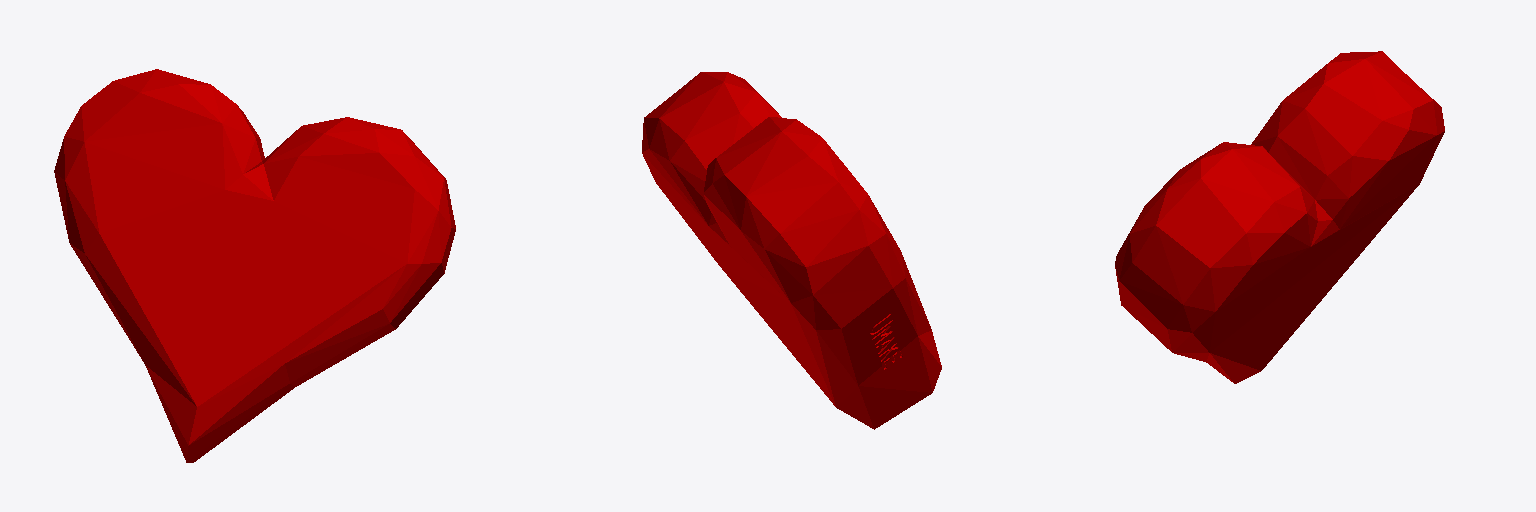
File: heart-reformed.obj
3 views of the same model, side by side, from view 1: azimuth 30°, elevation 25°; view 2: azimuth 150°, elevation 25°; view 3: azimuth 270°, elevation 25° (orthographic).
Visible parts, largest first — view 1: Umakes_Lowpoly_heart; view 2: Umakes_Lowpoly_heart; view 3: Umakes_Lowpoly_heart.
Part boxes in pixels (x1,y1,x2,y2): Umakes_Lowpoly_heart: (54,69,455,462); Umakes_Lowpoly_heart: (642,72,941,429); Umakes_Lowpoly_heart: (1115,51,1444,383).
Size of the model in its own units: 85.66 by 89.07 by 78.66.